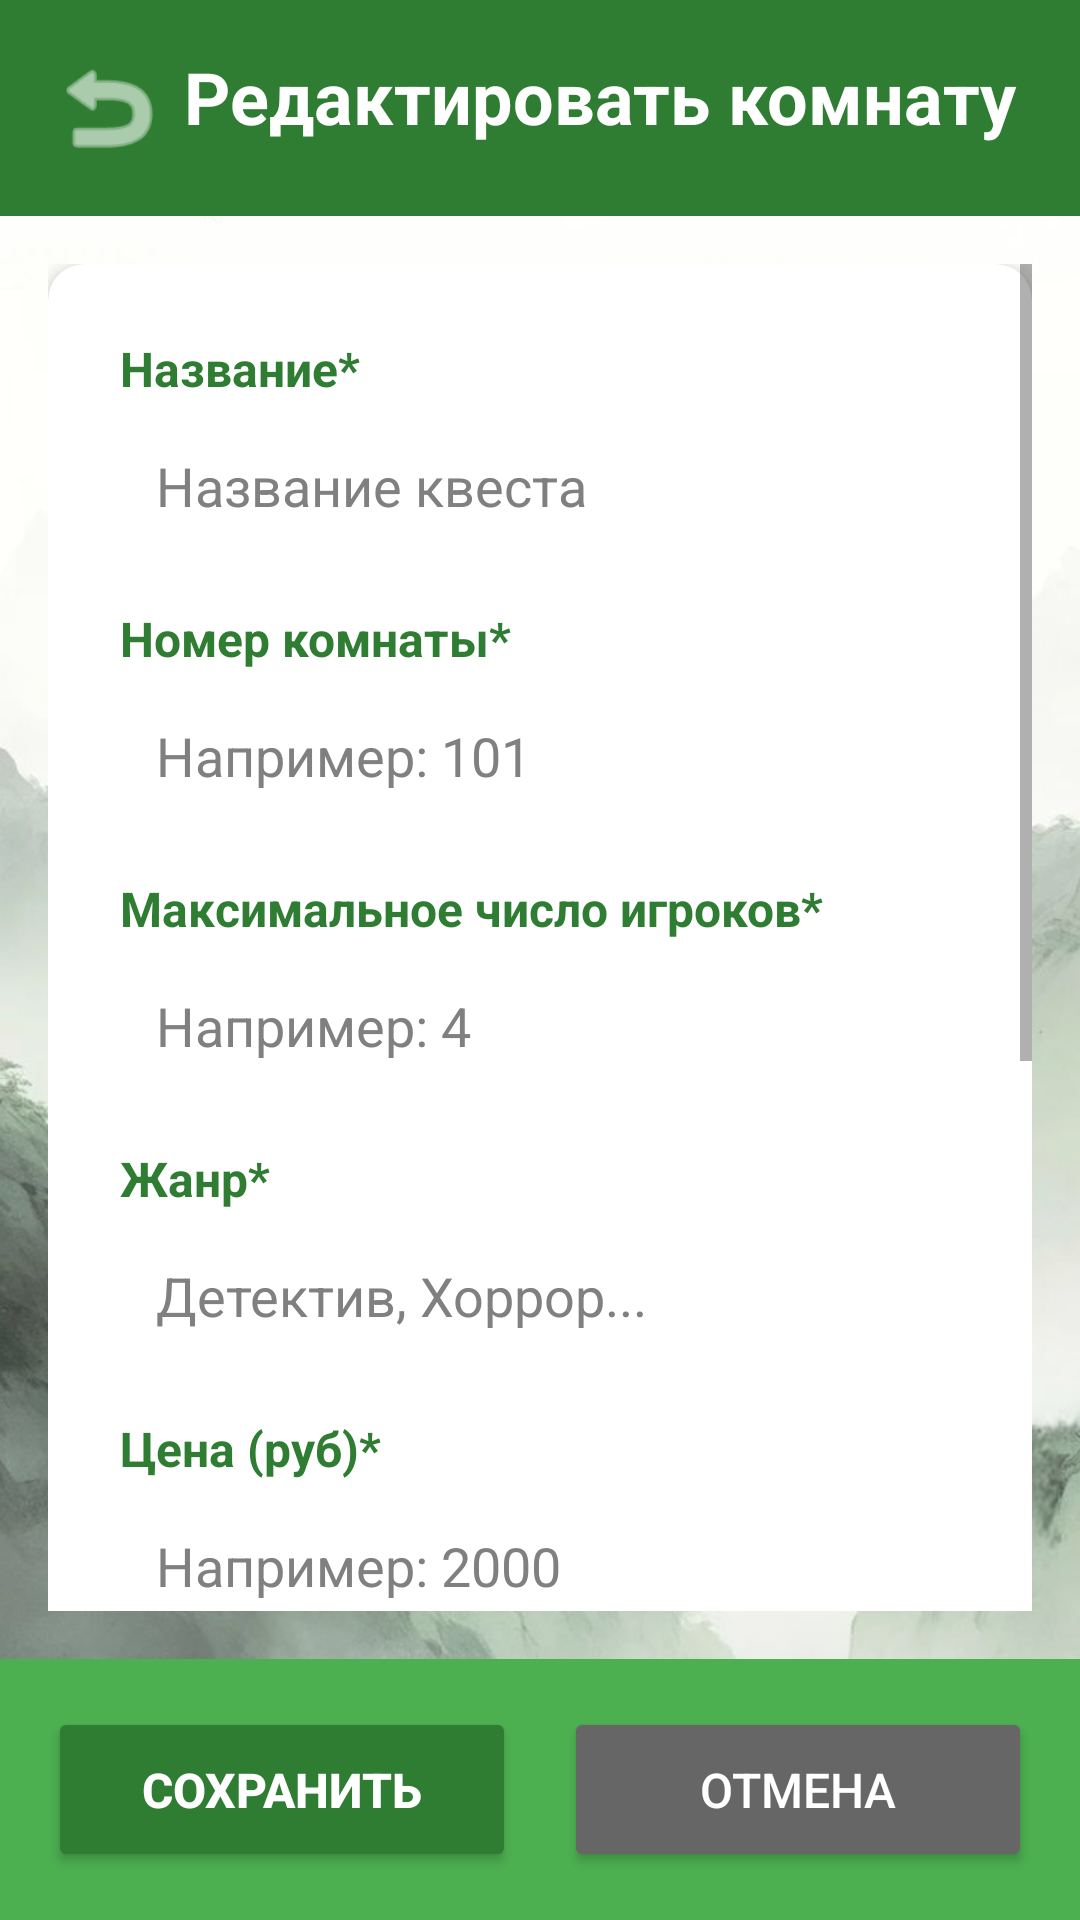

Named icons in this screenshot (1080 x 1920) and their bounding boxes, (x1, y1, x2, y2):
Назад: (66, 70, 153, 148)
